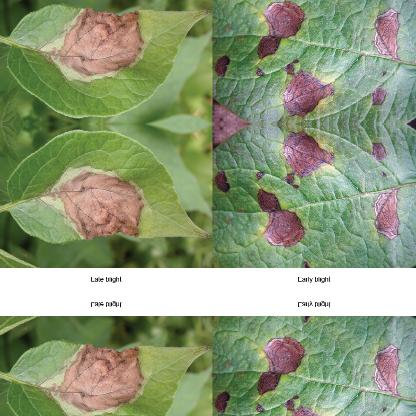Late-Blight: (214, 124, 414, 264), (214, 0, 413, 122), (5, 142, 201, 258), (5, 0, 201, 103), (214, 318, 413, 416), (5, 324, 201, 416)
